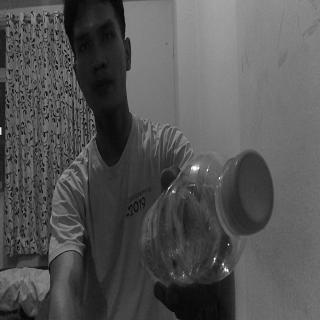plastic_bottles: (139, 148, 274, 284)
